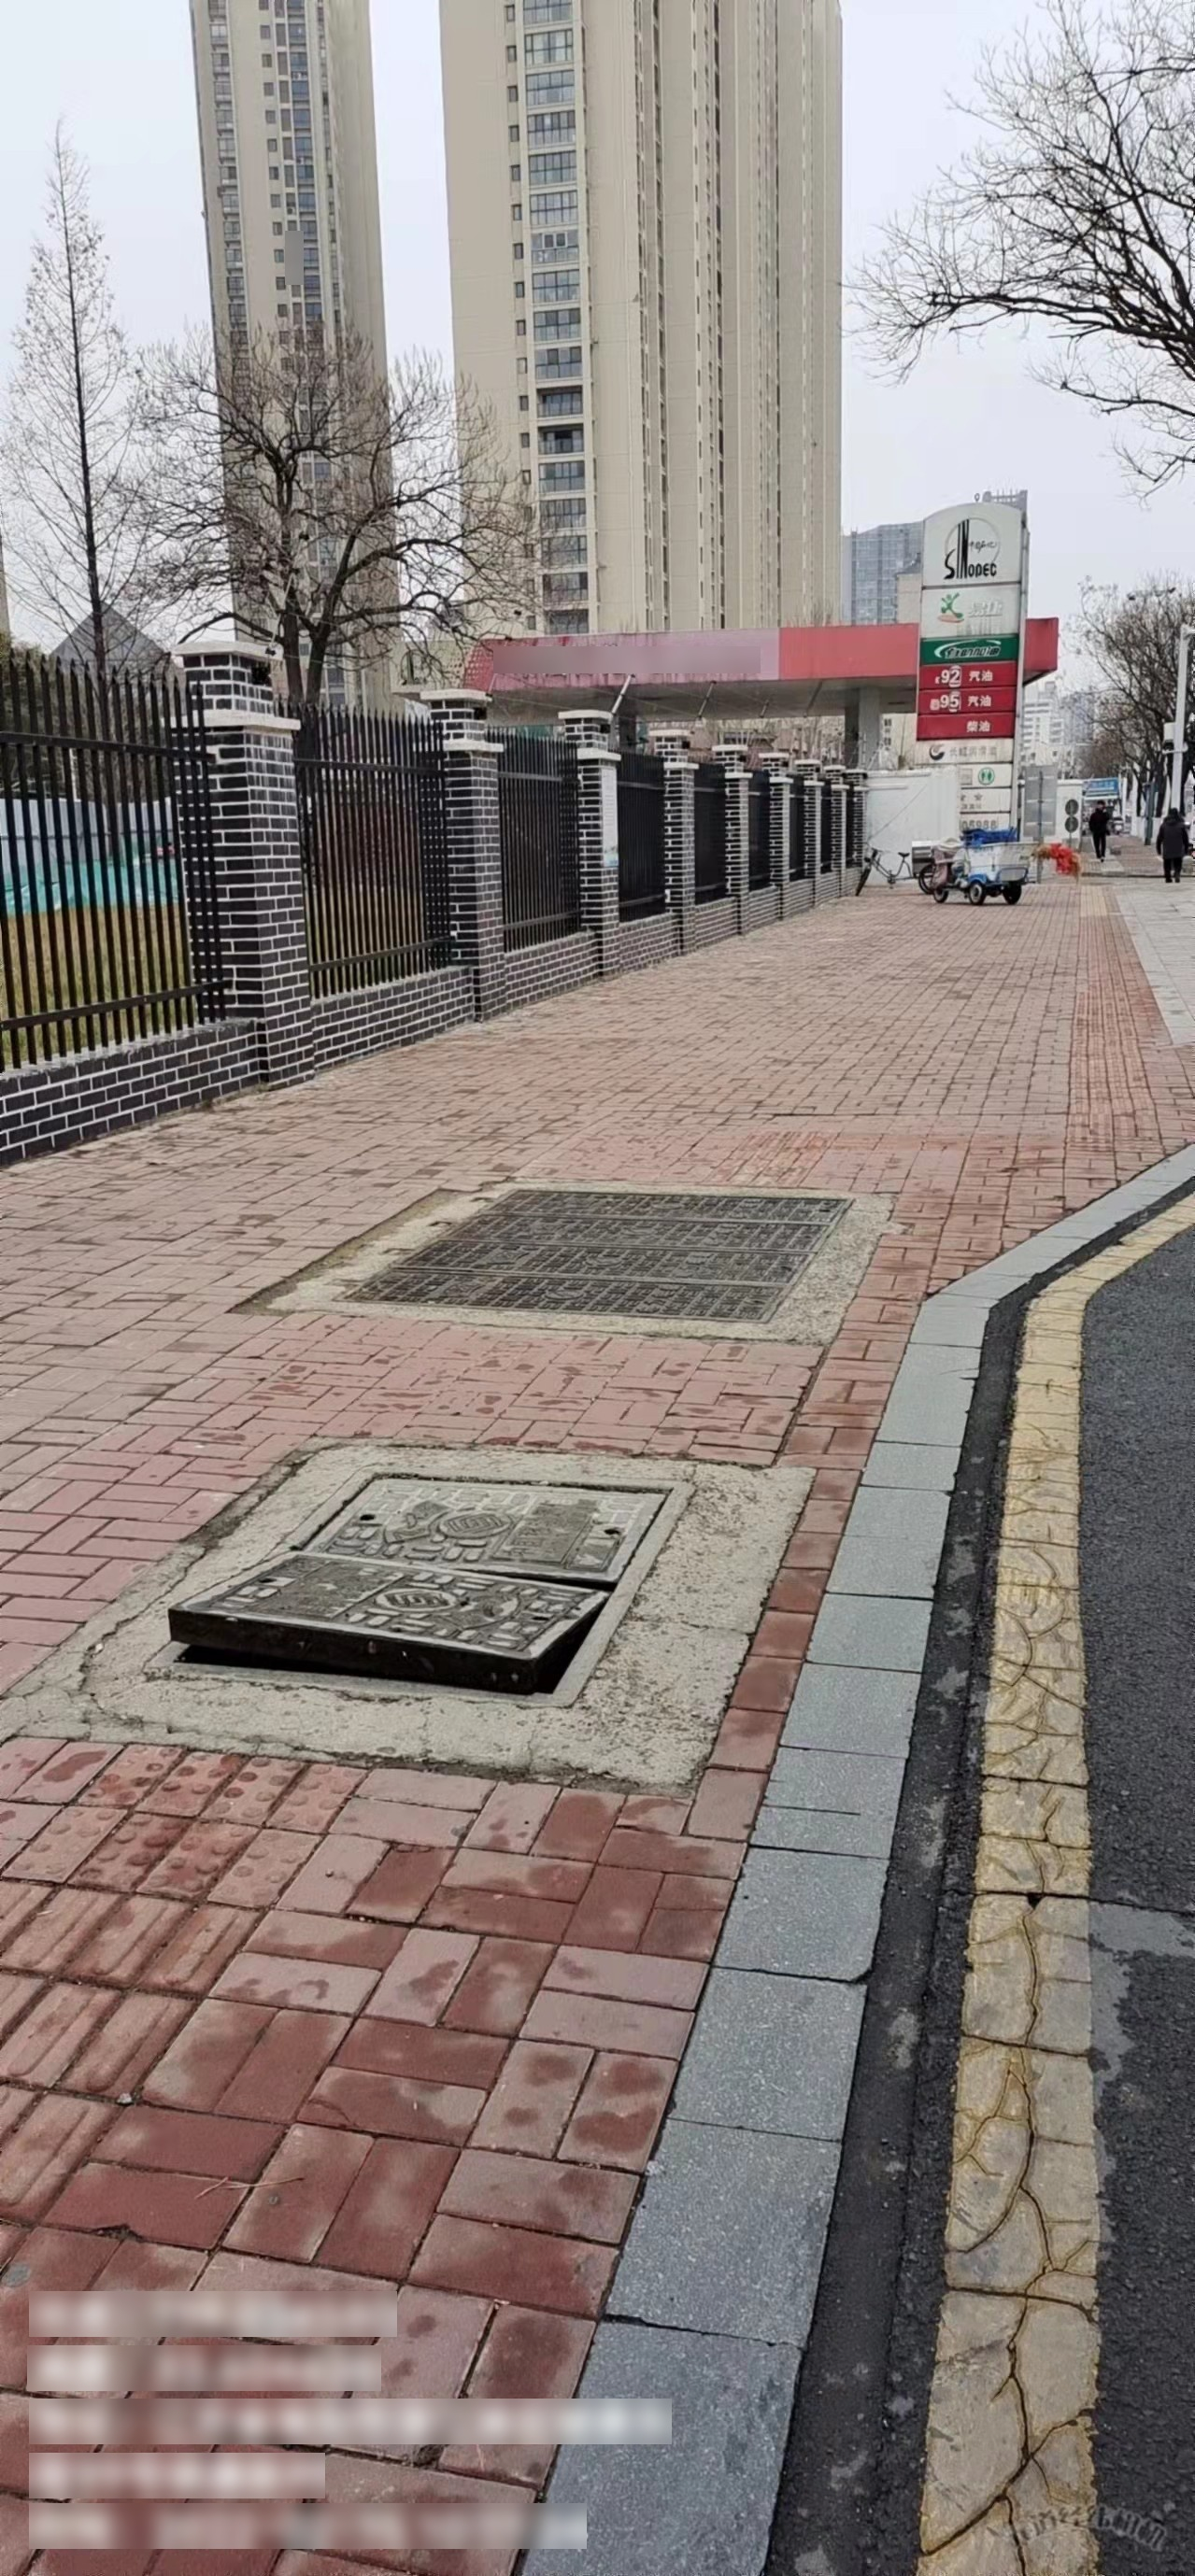good: (340, 1181, 863, 1345)
uncovered: (138, 1470, 687, 1702)
